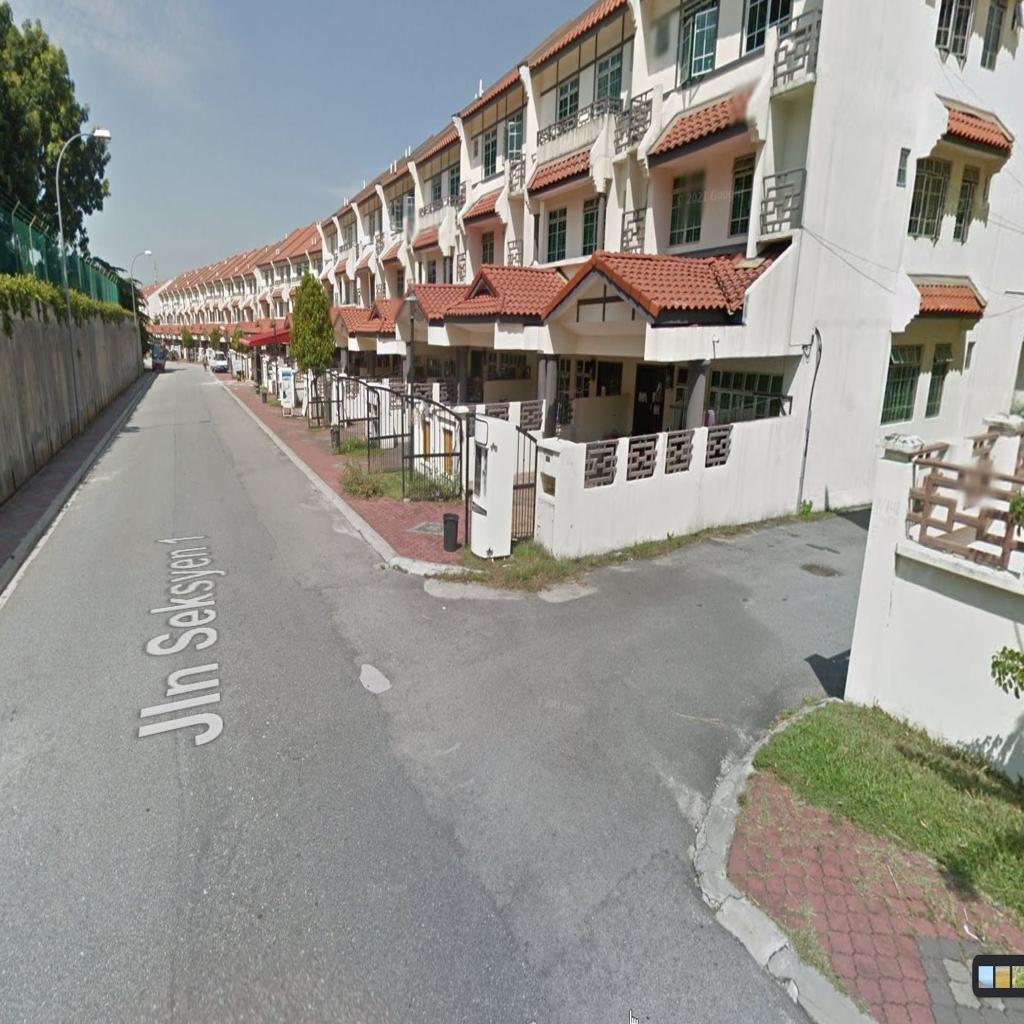Junction: (494, 503, 828, 812)
